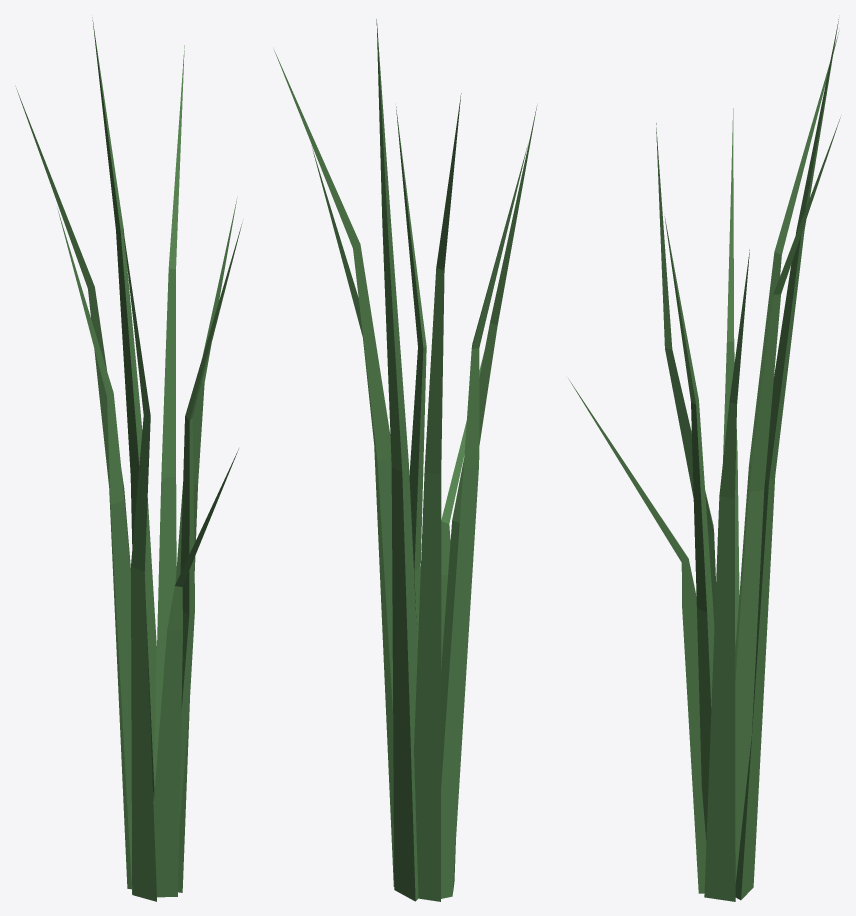
File: Grass_5_Green.fbx
The picture shows the model from 3 angles, left to right: view 1: azimuth 30°, elevation 25°; view 2: azimuth 150°, elevation 25°; view 3: azimuth 270°, elevation 25°; orthographic projection. The views are drawn at different scales.
Parts seen in each view (by area): view 1: Grass_5_Green; view 2: Grass_5_Green; view 3: Grass_5_Green.
Part boxes in pixels (bbox=[...]): Grass_5_Green: bbox=[15, 17, 242, 901]; Grass_5_Green: bbox=[274, 19, 537, 901]; Grass_5_Green: bbox=[568, 17, 840, 901].
Bounding box in the file's own units: 23.91 × 101 × 28.97.
